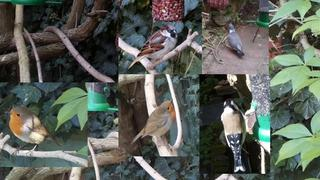goldfinch: (221, 98, 246, 173)
robin: (5, 106, 64, 160), (129, 98, 175, 148)
sparrow: (127, 24, 178, 70)
wood pigeon: (227, 24, 245, 57)
